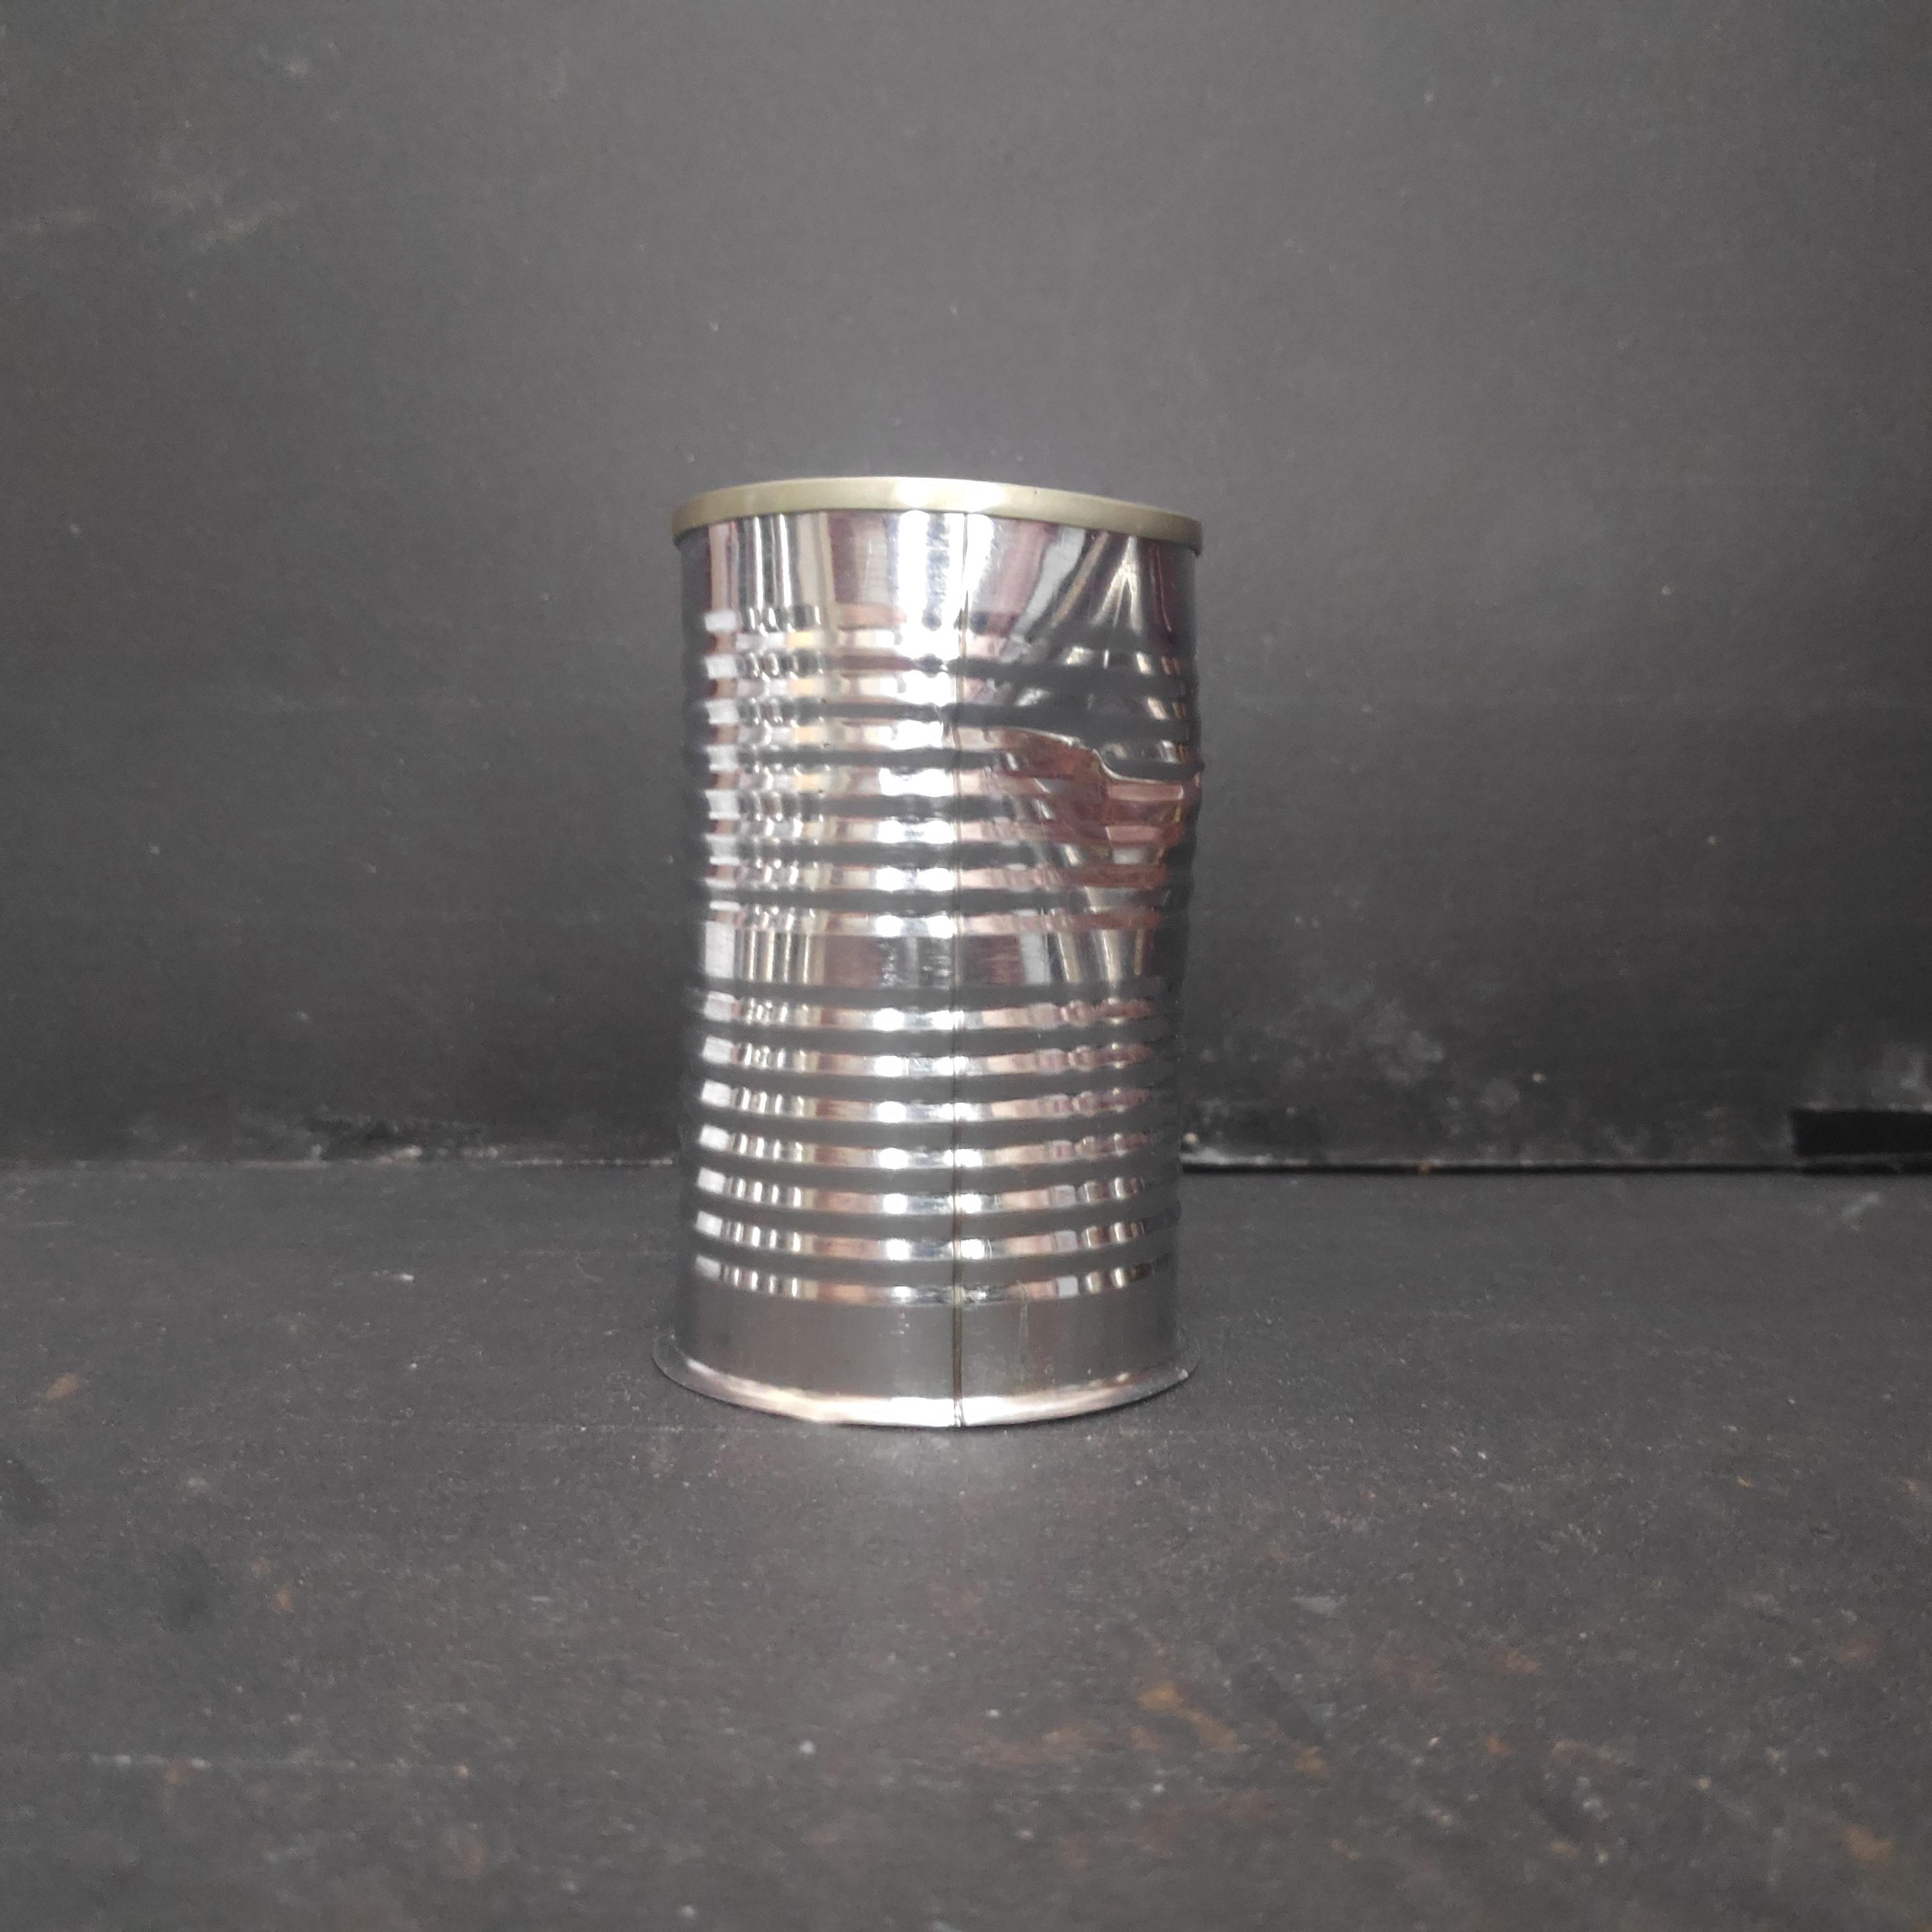Minor Defect: (660, 458, 1221, 1447)
